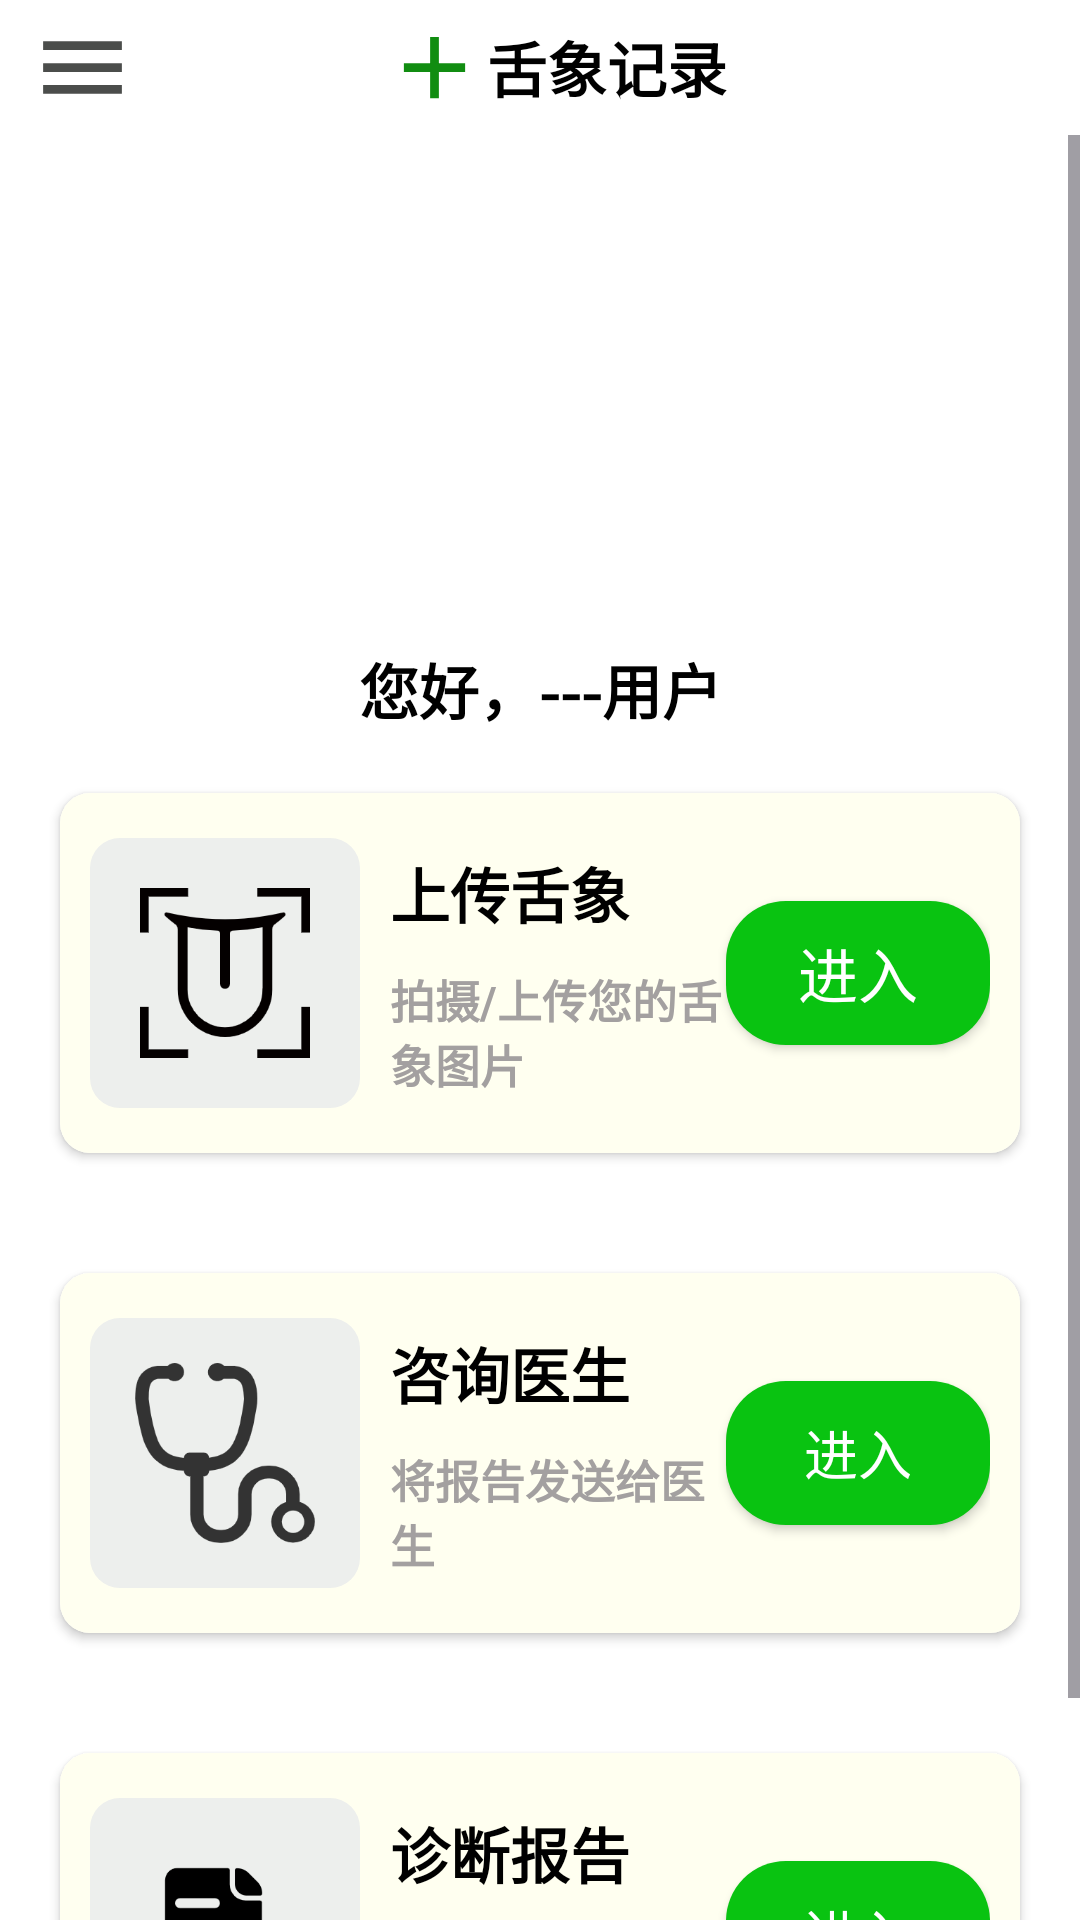

Named icons in this screenshot (1080*1920) and their bounding boxes, rect(x1, y1, x2, y2):
add: rect(403, 37, 466, 99)
consulting: rect(135, 1363, 315, 1543)
menu: rect(43, 41, 122, 94)
tougue: rect(140, 888, 310, 1058)
